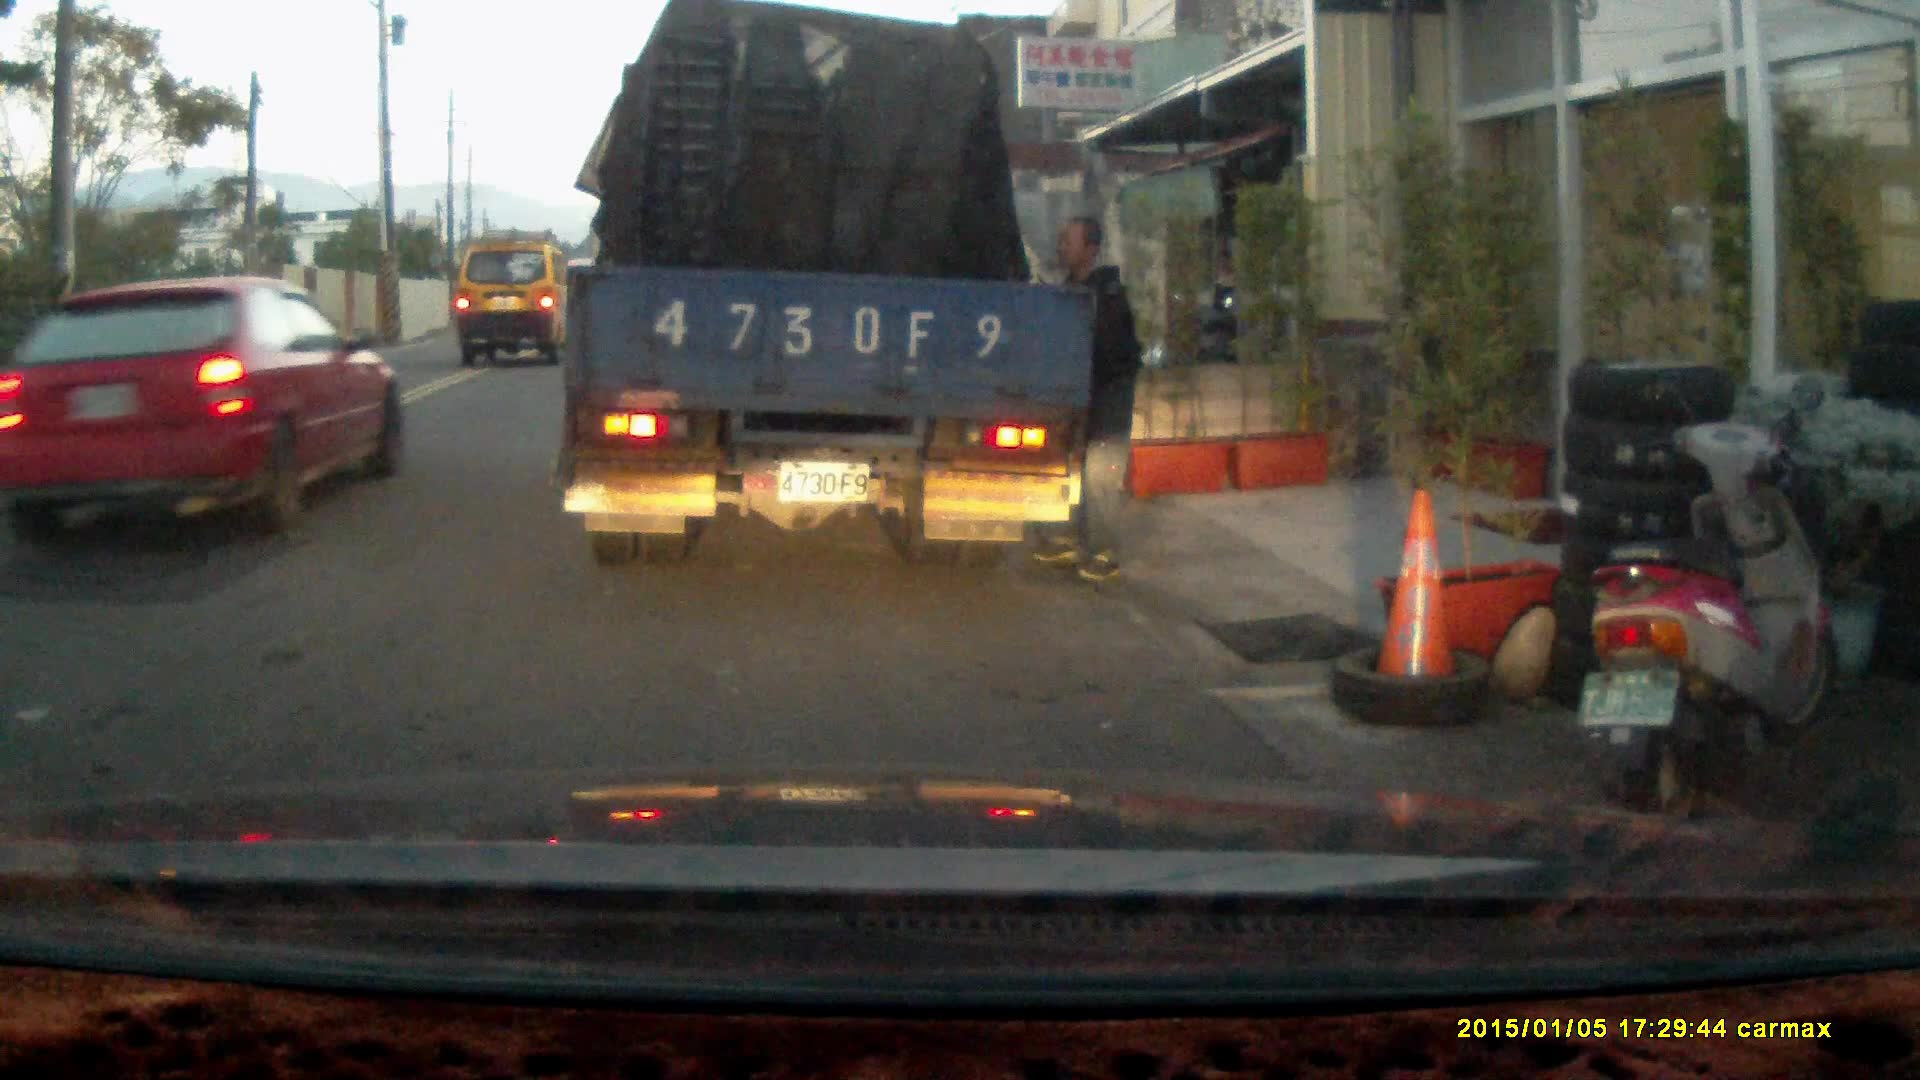pedestrian: (1031, 213, 1142, 582)
vehicle: (565, 23, 1097, 570), (1, 277, 402, 552), (454, 239, 576, 360)
